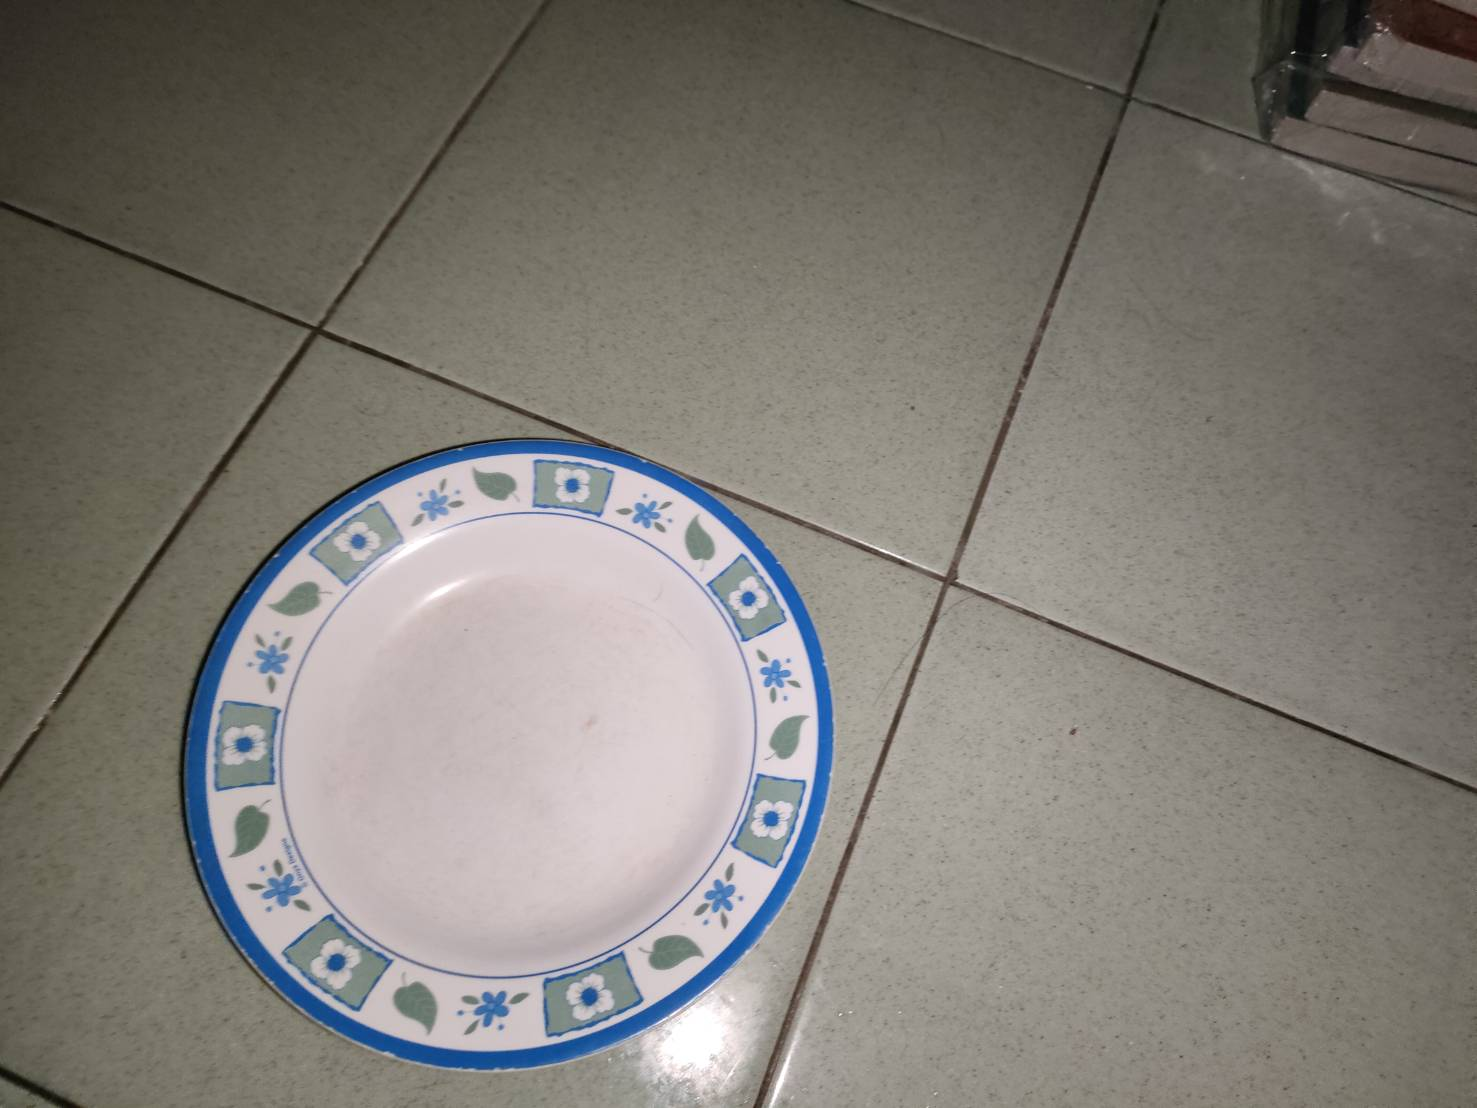piring: (177, 433, 840, 1068)
